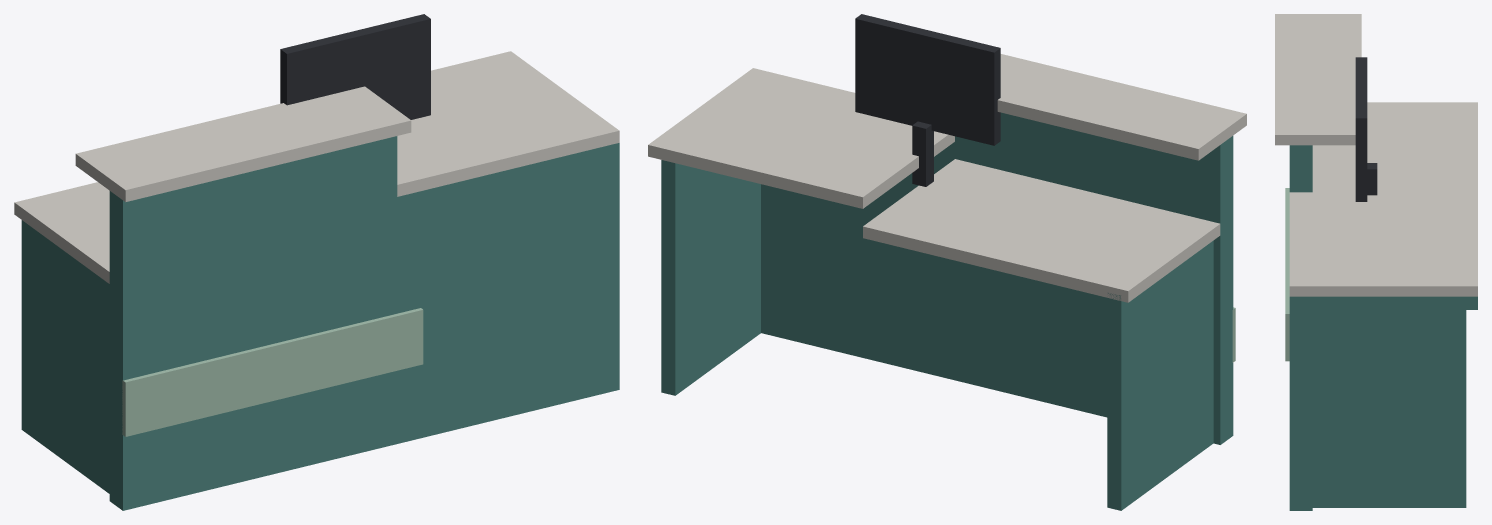
File: reception-counter-07.glb
The picture shows the model from 3 angles, left to right: view 1: azimuth 30°, elevation 25°; view 2: azimuth 150°, elevation 25°; view 3: azimuth 270°, elevation 25°; orthographic projection. The views are drawn at different scales.
Parts seen in each view (by area): view 1: reception_counter_07; view 2: reception_counter_07; view 3: reception_counter_07.
Part boxes in pixels (<box>): reception_counter_07: <box>14,14,619,510</box>; reception_counter_07: <box>648,14,1246,510</box>; reception_counter_07: <box>1275,14,1477,510</box>.
Bounding box in the file's own units: 1.74 × 1.26 × 0.7035.
